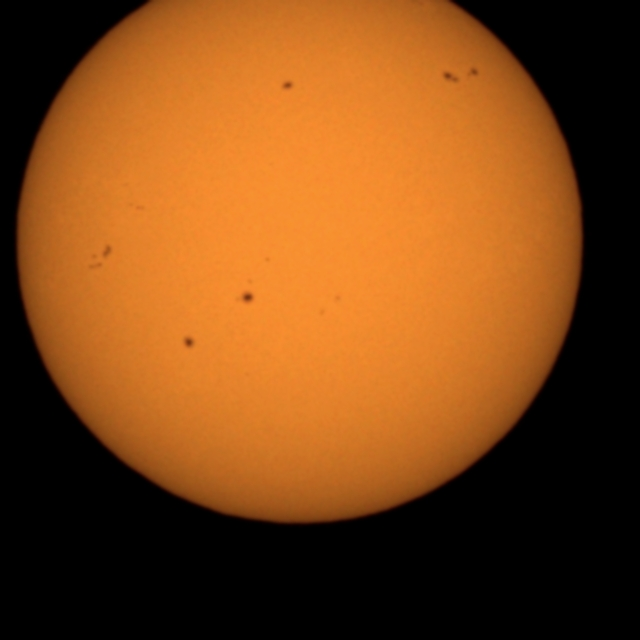sunspot: (86, 242, 115, 272), (441, 66, 481, 86), (316, 292, 343, 320), (234, 278, 257, 308), (441, 69, 462, 85), (181, 334, 197, 351), (280, 79, 295, 93), (128, 202, 147, 213), (466, 66, 480, 79), (262, 254, 273, 265)
